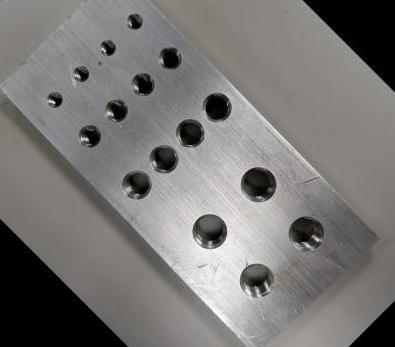hole: (231, 157, 285, 211), (279, 207, 333, 260), (183, 205, 236, 257), (230, 254, 282, 307), (194, 85, 239, 129), (167, 111, 211, 155), (114, 163, 158, 206), (141, 137, 185, 180), (97, 92, 134, 128), (151, 40, 188, 76), (72, 118, 107, 153), (125, 66, 160, 101), (121, 8, 147, 34), (41, 87, 67, 112), (68, 61, 93, 86), (95, 35, 120, 60)
